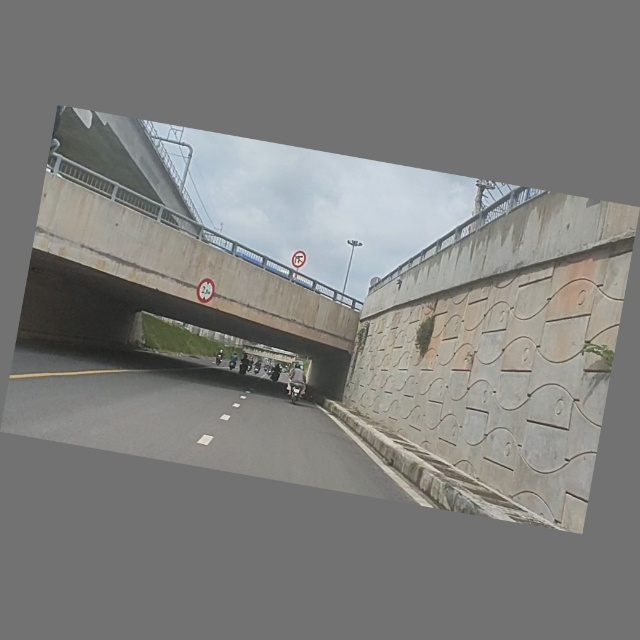P.117*: (195, 277, 218, 305)
P.124d: (291, 250, 308, 270)
